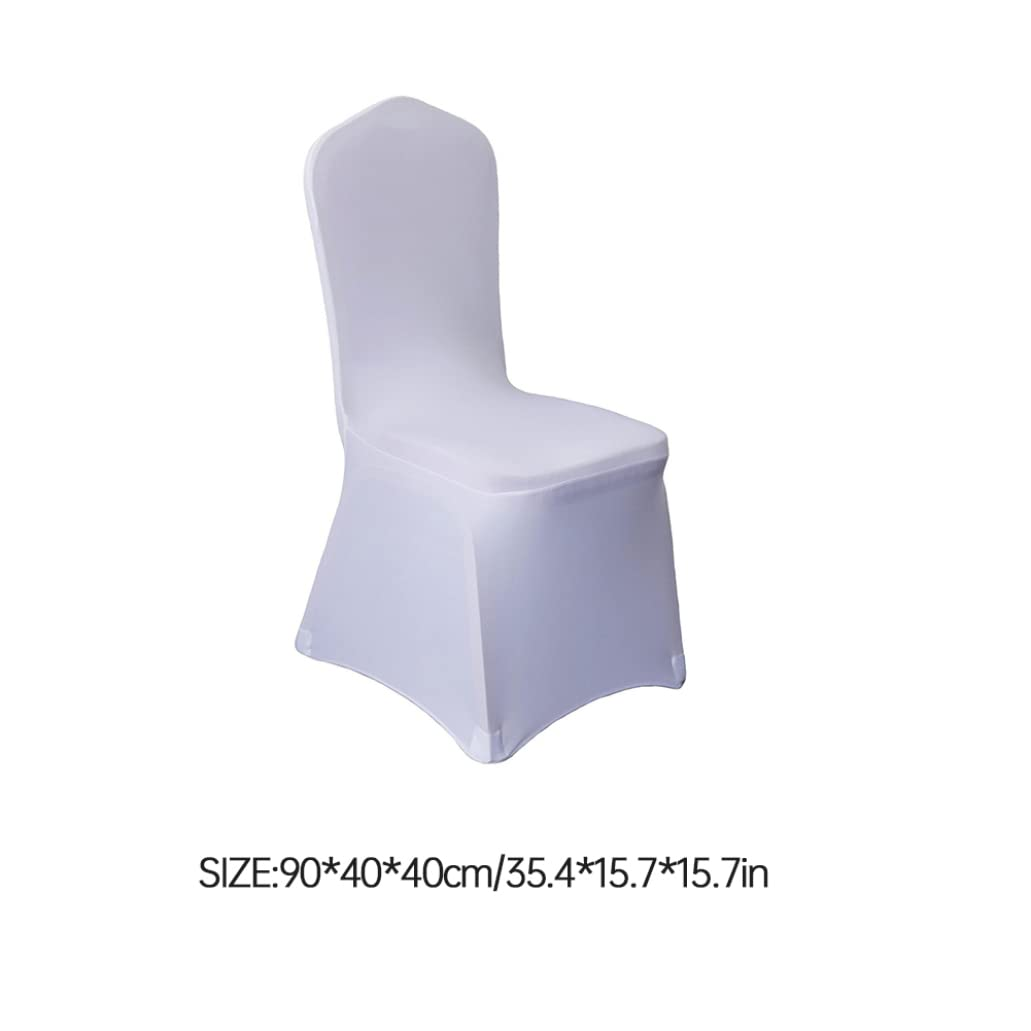SIZE:90*40*40cm/35.4*15.7415.7in: (199, 853, 768, 892)
